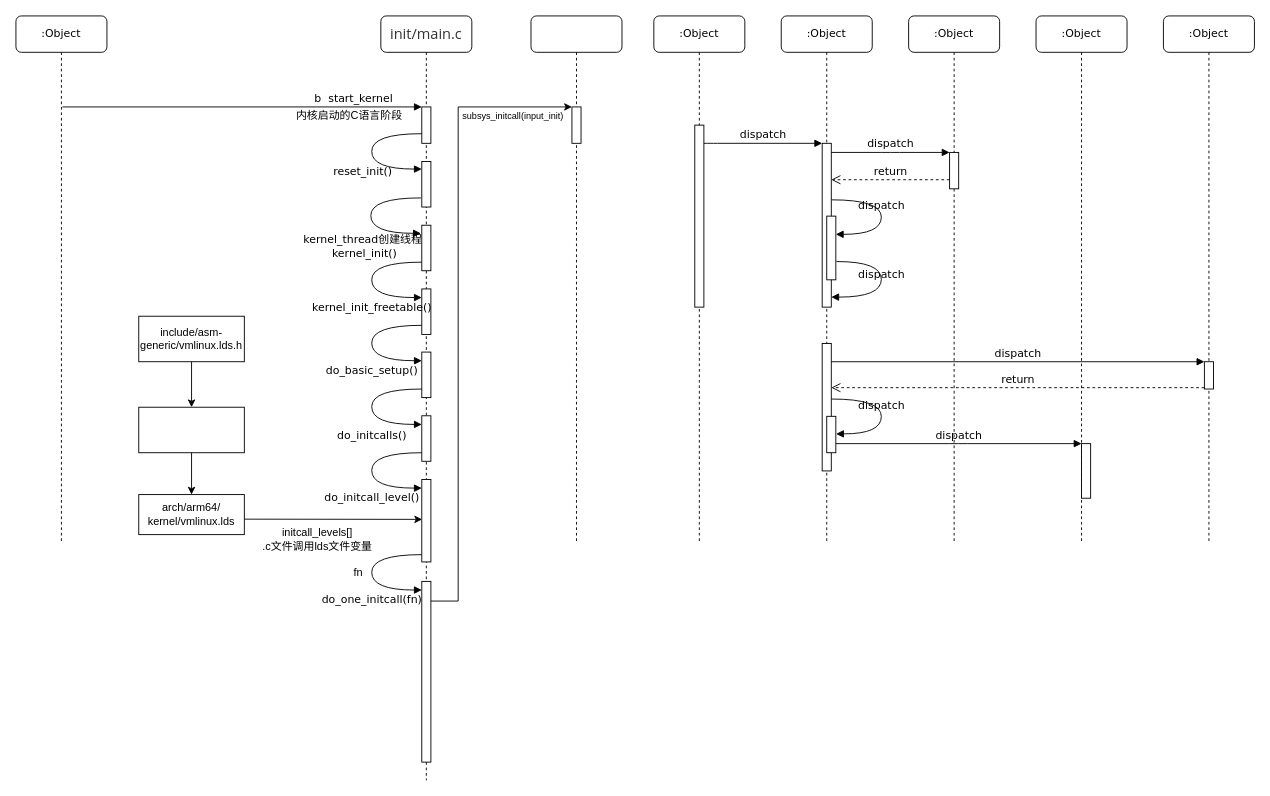
The diagram is 1270 pixels wide and 796 high, and some of its shapes have lost their labels. The box of each missing label's shape, as (x1, y1, x2, y2) in pixels:
arch/arm64/ kernel/vmlinux.lds.S: (138, 406, 244, 453)
driver/input/input.c: (530, 15, 622, 544)
